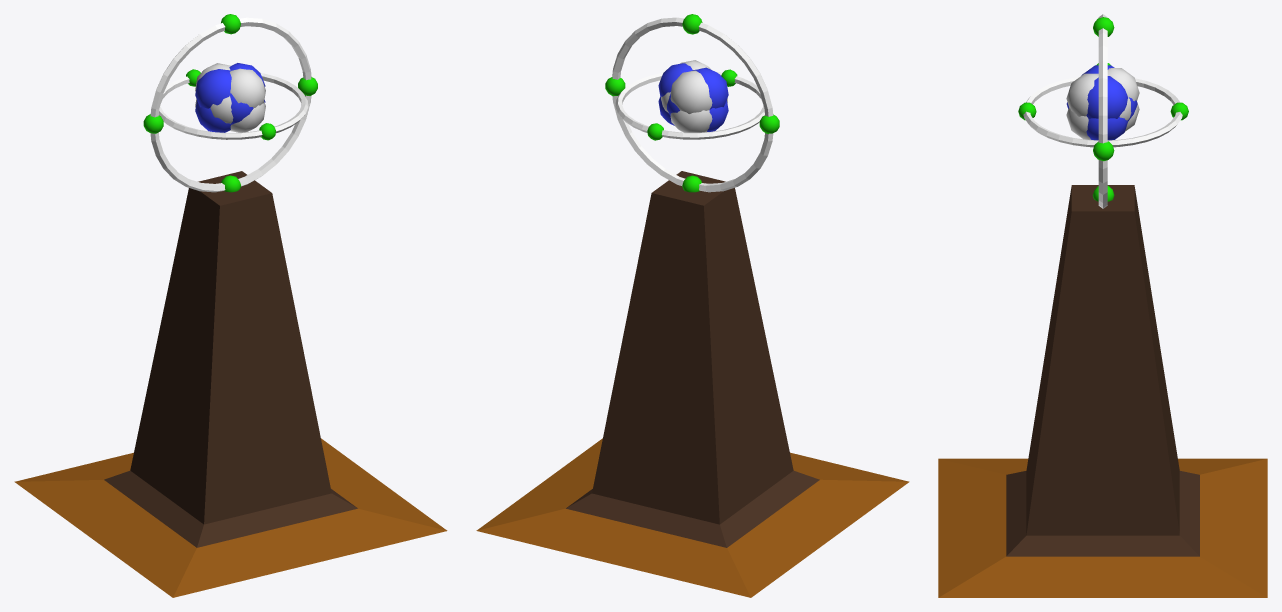
File: CarbonTower.fbx
3 views of the same model, side by side, from view 1: azimuth 30°, elevation 25°; view 2: azimuth 150°, elevation 25°; view 3: azimuth 270°, elevation 25° (orthographic). The views are drawn at different scales.
Visible parts, largest first — view 1: Tower, TowerBase.001, Orbital2, Orbital1, Proton2, Neutron4, Proton1; view 2: Tower, TowerBase.001, Orbital2, Orbital1, Neutron2, Neutron1, Proton2; view 3: Tower, TowerBase.001, Orbital1, Orbital2, Proton4, Neutron4, Proton3, Neutron2, Neutron3.
Part boxes in pixels (x1=…): Tower: x1=104, y1=171, x2=357, y2=547; TowerBase.001: x1=14, y1=438, x2=447, y2=597; Orbital2: x1=150, y1=17, x2=311, y2=192; Orbital1: x1=159, y1=73, x2=308, y2=139; Proton2: x1=195, y1=69, x2=231, y2=108; Neutron4: x1=230, y1=68, x2=265, y2=107; Proton1: x1=195, y1=100, x2=230, y2=132; Tower: x1=566, y1=171, x2=819, y2=547; TowerBase.001: x1=476, y1=438, x2=909, y2=597; Orbital2: x1=612, y1=17, x2=773, y2=192; Orbital1: x1=615, y1=71, x2=764, y2=139; Neutron2: x1=670, y1=70, x2=712, y2=113; Neutron1: x1=670, y1=110, x2=712, y2=132; Proton2: x1=692, y1=67, x2=728, y2=109; Tower: x1=1006, y1=185, x2=1199, y2=556; TowerBase.001: x1=938, y1=458, x2=1267, y2=597; Orbital1: x1=1023, y1=77, x2=1182, y2=147; Orbital2: x1=1098, y1=14, x2=1107, y2=208; Proton4: x1=1086, y1=76, x2=1127, y2=118; Neutron4: x1=1066, y1=73, x2=1098, y2=116; Proton3: x1=1086, y1=117, x2=1128, y2=140; Neutron2: x1=1107, y1=68, x2=1139, y2=101; Neutron3: x1=1066, y1=108, x2=1090, y2=139.
Size of the model in its own units: 430 by 735 by 430.
